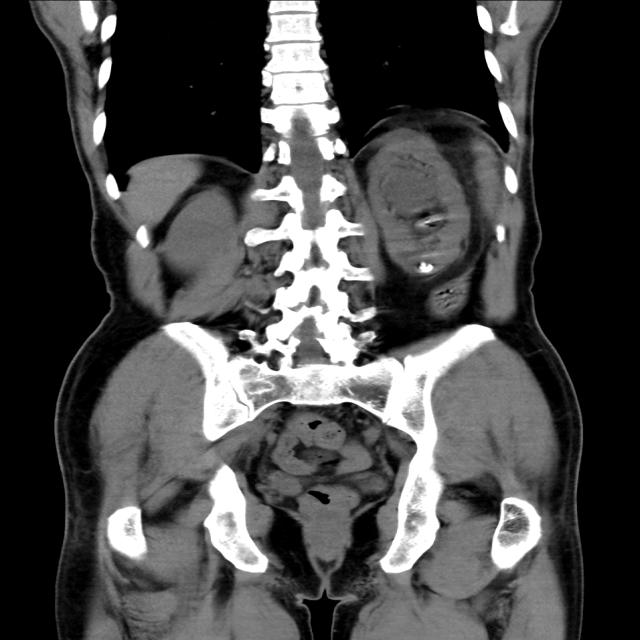kidneystone: (415, 261, 435, 274)
